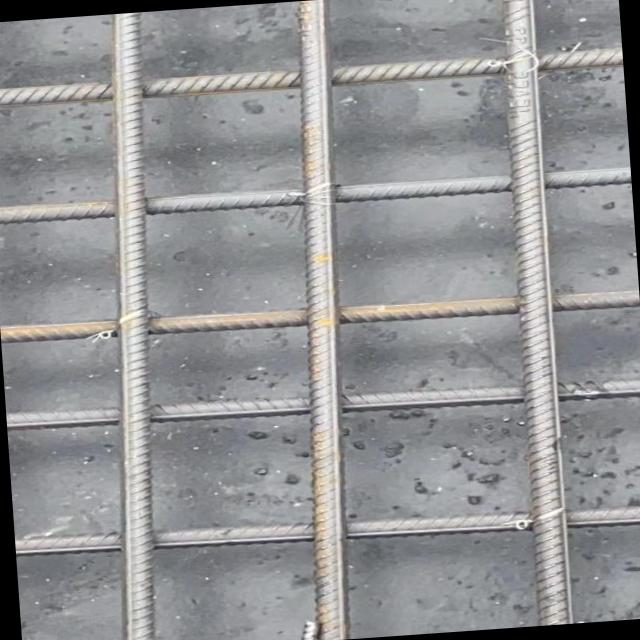ribbed bar: (75, 12, 185, 640), (271, 0, 371, 640), (493, 0, 579, 624), (5, 367, 640, 442), (14, 492, 640, 568), (0, 280, 638, 350), (0, 163, 630, 228), (0, 45, 622, 110)
